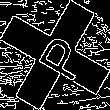P_NW: (24, 26, 86, 84)
